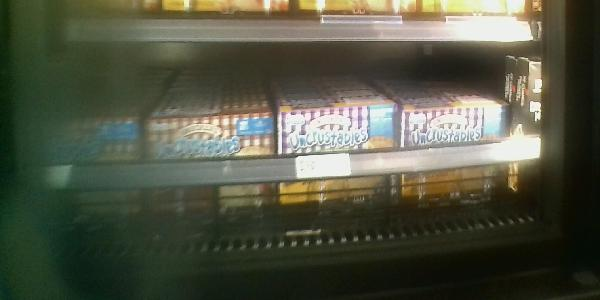icecream: (148, 112, 278, 161), (277, 103, 397, 155), (31, 110, 145, 163), (403, 97, 513, 148)
